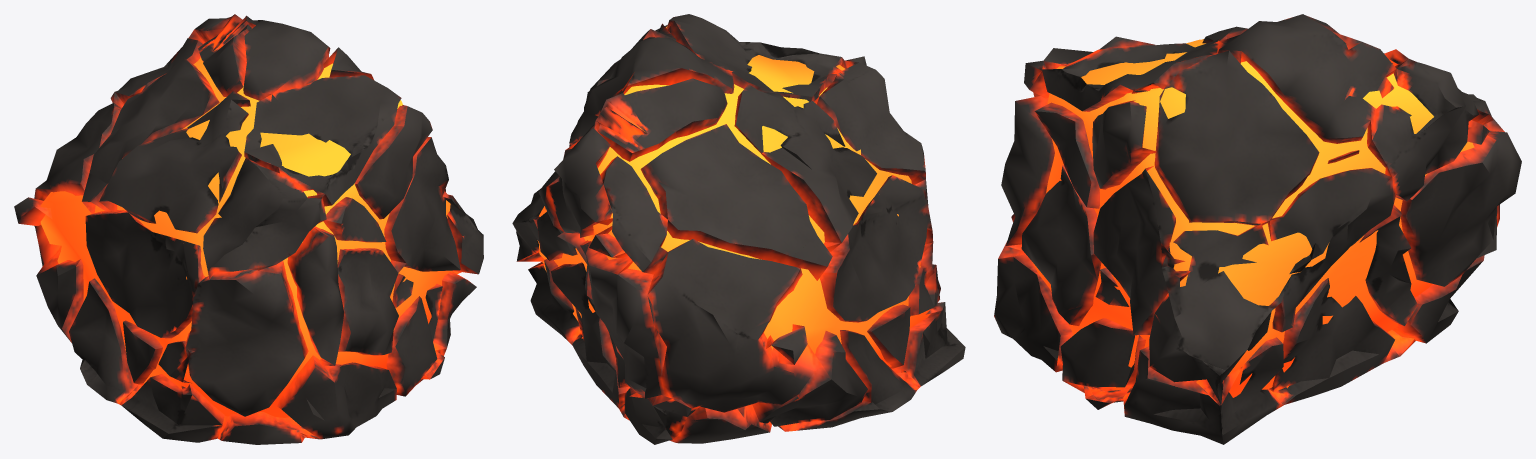
Rendered from roca_del_nucleo.fbx.
3 views of the same model, side by side, from view 1: azimuth 30°, elevation 25°; view 2: azimuth 150°, elevation 25°; view 3: azimuth 270°, elevation 25° (orthographic). The views are drawn at different scales.
Visible parts, largest first — view 1: roca_del_nucleo, roca_del_nucleo_neon; view 2: roca_del_nucleo, roca_del_nucleo_neon; view 3: roca_del_nucleo, roca_del_nucleo_neon.
Part boxes in pixels (<box>): roca_del_nucleo: <box>14,14,483,444</box>; roca_del_nucleo_neon: <box>40,57,451,417</box>; roca_del_nucleo: <box>512,14,965,444</box>; roca_del_nucleo_neon: <box>537,26,930,366</box>; roca_del_nucleo: <box>994,14,1521,444</box>; roca_del_nucleo_neon: <box>1032,39,1474,397</box>.
Bounding box in the file's own units: 2.36 × 1.88 × 2.58.
Materials: 2 (2 with a texture image).
